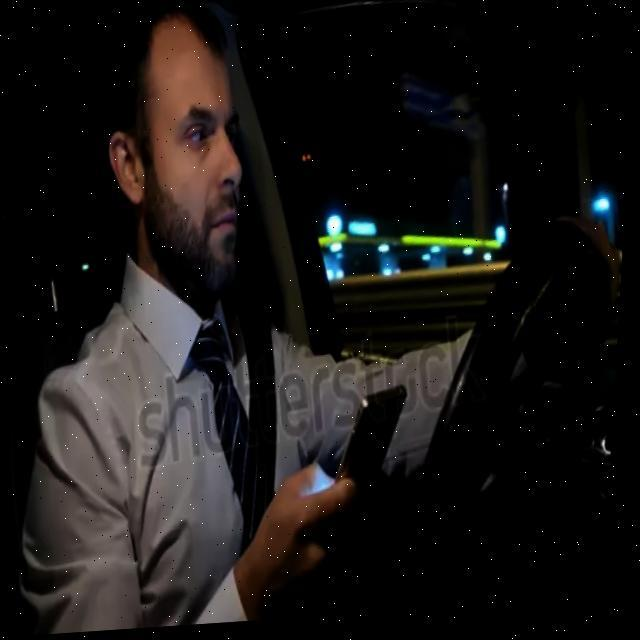PhoneCall: (323, 388, 426, 509)
